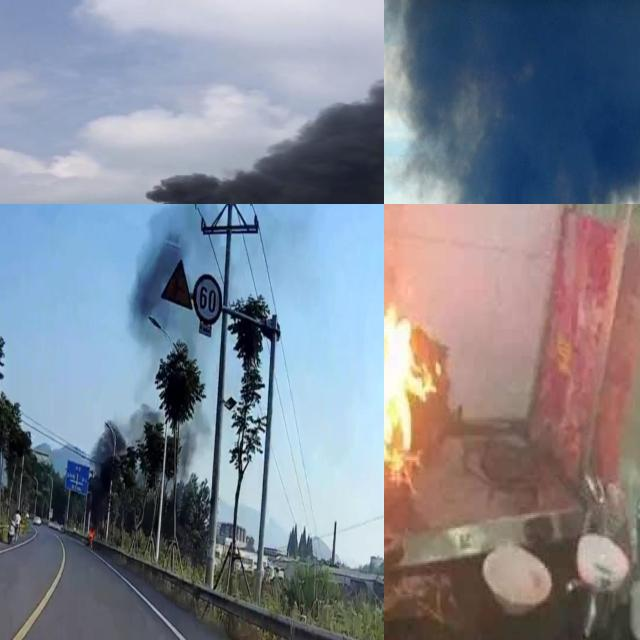fire: (384, 246, 439, 473), (86, 523, 97, 542)
smoke: (88, 204, 293, 524), (384, 1, 640, 204), (114, 27, 384, 204)
